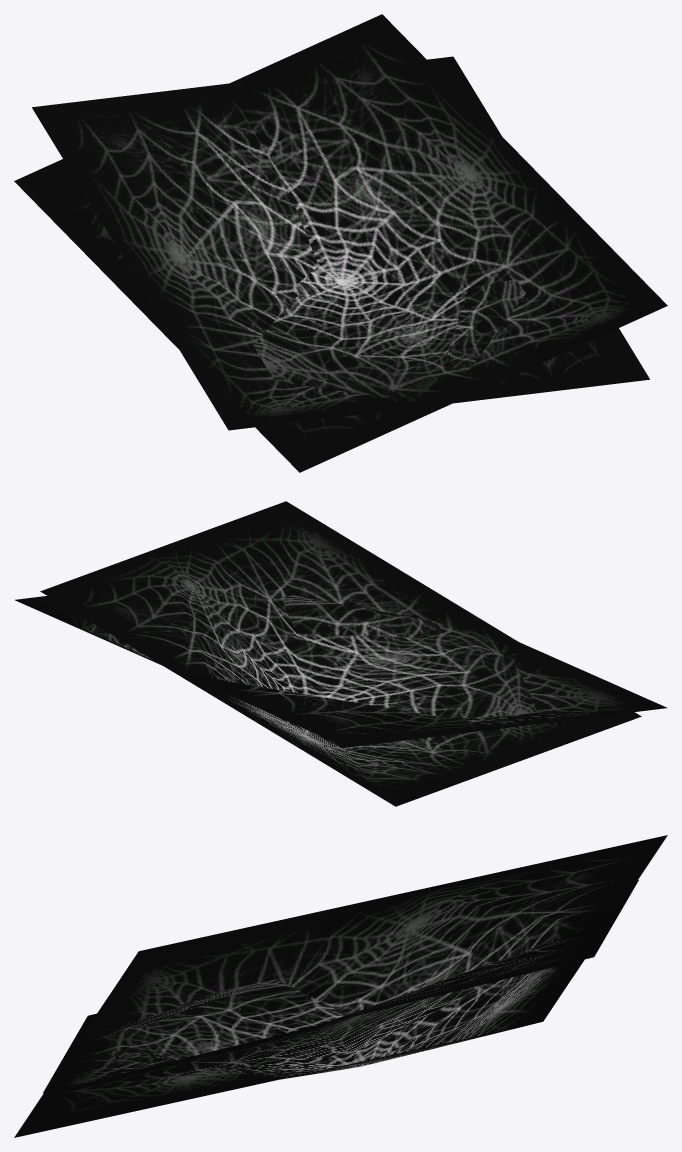
File: DWARF_PALACE_SPIDERWEB20.fbx
The picture shows the model from 3 angles, top to bottom: view 1: azimuth 30°, elevation 25°; view 2: azimuth 150°, elevation 25°; view 3: azimuth 270°, elevation 25°; orthographic projection. The views are drawn at different scales.
Visible parts, largest first — view 1: DWARF_PALACE_SPIDERWEB20; view 2: DWARF_PALACE_SPIDERWEB20; view 3: DWARF_PALACE_SPIDERWEB20.
Part boxes in pixels (left/top/right/bottom): DWARF_PALACE_SPIDERWEB20: left=14, top=14, right=667, bottom=472; DWARF_PALACE_SPIDERWEB20: left=15, top=501, right=666, bottom=806; DWARF_PALACE_SPIDERWEB20: left=14, top=835, right=667, bottom=1137.
Size of the model in its own units: 65899 by 31956 by 83942.
Materials: 1 (1 with a texture image).
